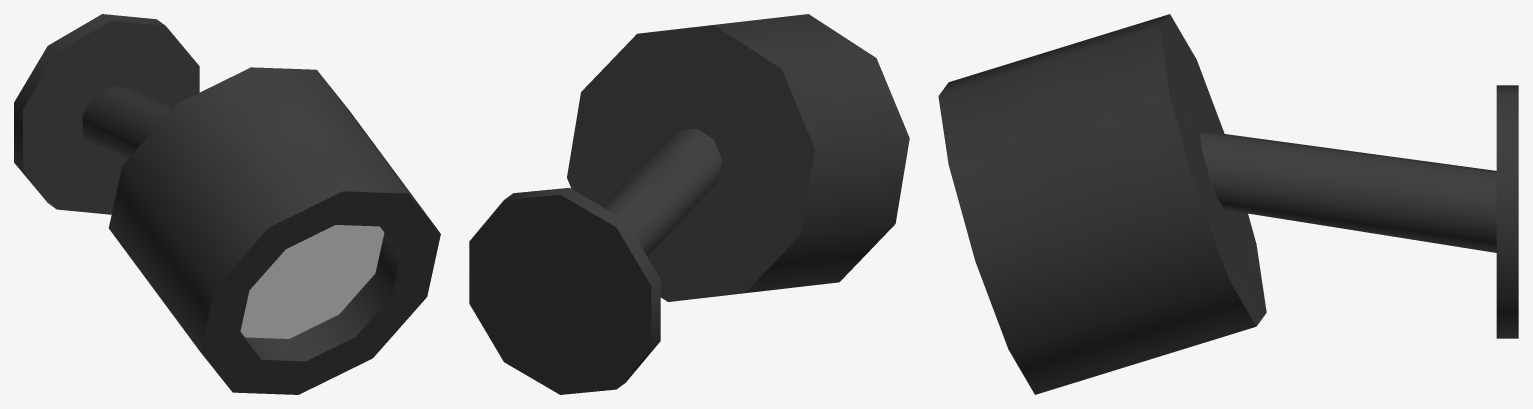
The model's file is Light_02.fbx.
3 views of the same model, side by side, from view 1: azimuth 30°, elevation 25°; view 2: azimuth 150°, elevation 25°; view 3: azimuth 270°, elevation 25° (orthographic). The views are drawn at different scales.
Visible parts, largest first — view 1: Light_02; view 2: Light_02; view 3: Light_02.
Boxes of the visible parts, left/top/right/bottom form: Light_02: left=14, top=14, right=440, bottom=394; Light_02: left=469, top=14, right=909, bottom=394; Light_02: left=938, top=14, right=1518, bottom=394.
Size of the model in its own units: 0.0861 by 0.1063 by 0.1584.
